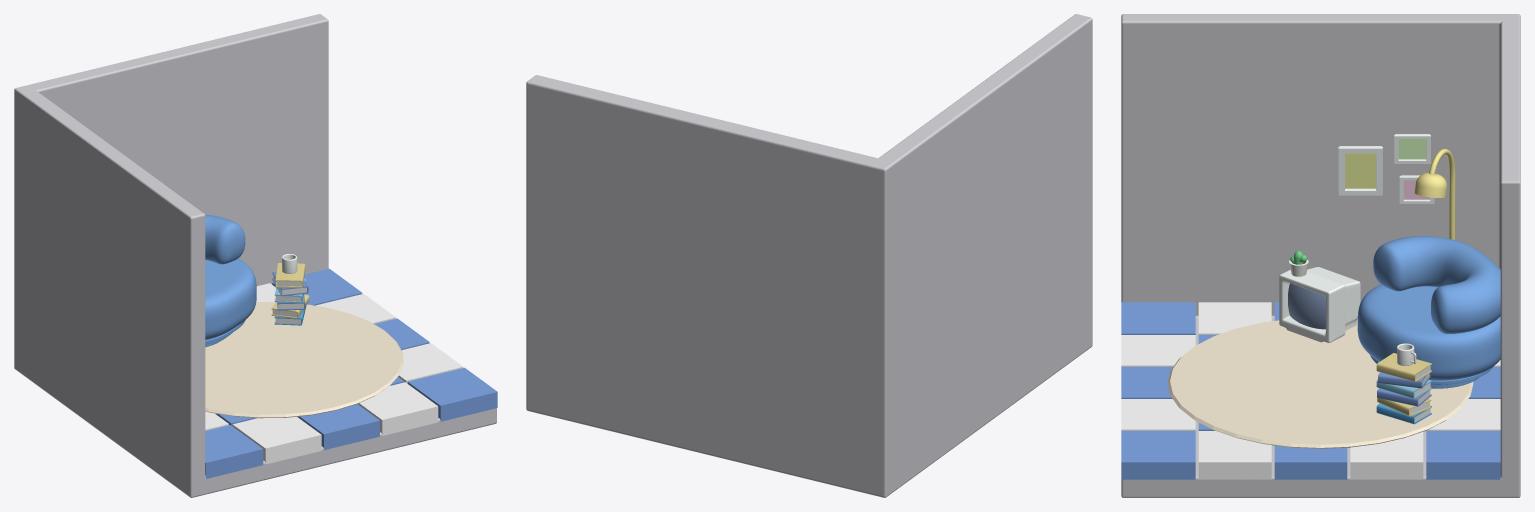
The model's file is marineRoom.glb.
3 renders of one model, left to right at view 1: azimuth 30°, elevation 25°; view 2: azimuth 150°, elevation 25°; view 3: azimuth 270°, elevation 25°, orthographic. The views are drawn at different scales.
Visible parts, largest first — view 1: Cube.037, Cube.036, Carpet 1, cushions, witch's house.058; view 2: Cube.037; view 3: Cube.037, Cube.036, Carpet 1, cushions, monitor, monitor scren, Picture 1.001, Picture 1.002, witch's house.058, BézierCurve.004, Cylinder.006, Picture 2.002 (+7 smaller).
Part boxes in pixels (<box>): Cube.037: <box>14,14,496,497</box>; Cube.036: <box>205,268,497,478</box>; Carpet 1: <box>205,302,403,418</box>; cushions: <box>205,214,256,339</box>; witch's house.058: <box>275,263,305,288</box>; Cube.037: <box>526,14,1092,497</box>; Cube.037: <box>1121,14,1520,497</box>; Cube.036: <box>1121,302,1500,480</box>; Carpet 1: <box>1167,319,1473,448</box>; cushions: <box>1357,236,1500,380</box>; monitor: <box>1279,267,1360,342</box>; monitor scren: <box>1288,283,1325,329</box>; Picture 1.001: <box>1338,146,1382,195</box>; Picture 1.002: <box>1345,153,1375,188</box>; witch's house.058: <box>1376,353,1431,381</box>; BézierCurve.004: <box>1429,149,1455,239</box>; Cylinder.006: <box>1414,173,1446,197</box>; Picture 2.002: <box>1398,139,1426,159</box>.
Size of the model in its own units: 4 by 3.5 by 4.
